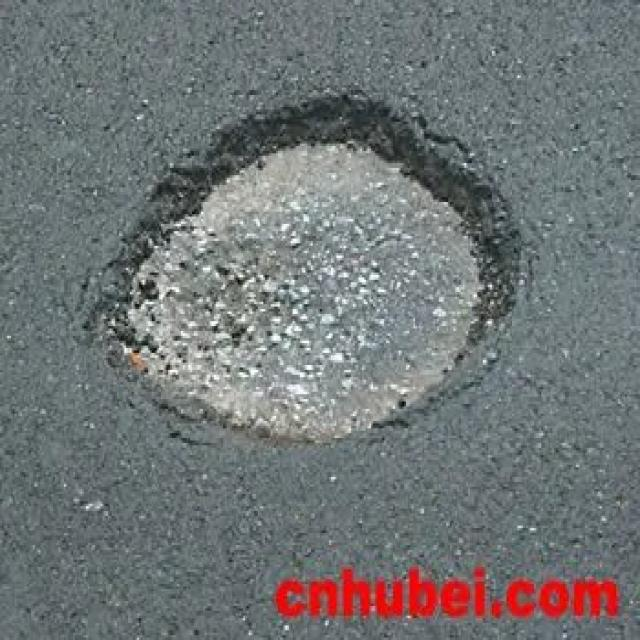Pothole: (99, 92, 517, 446)
